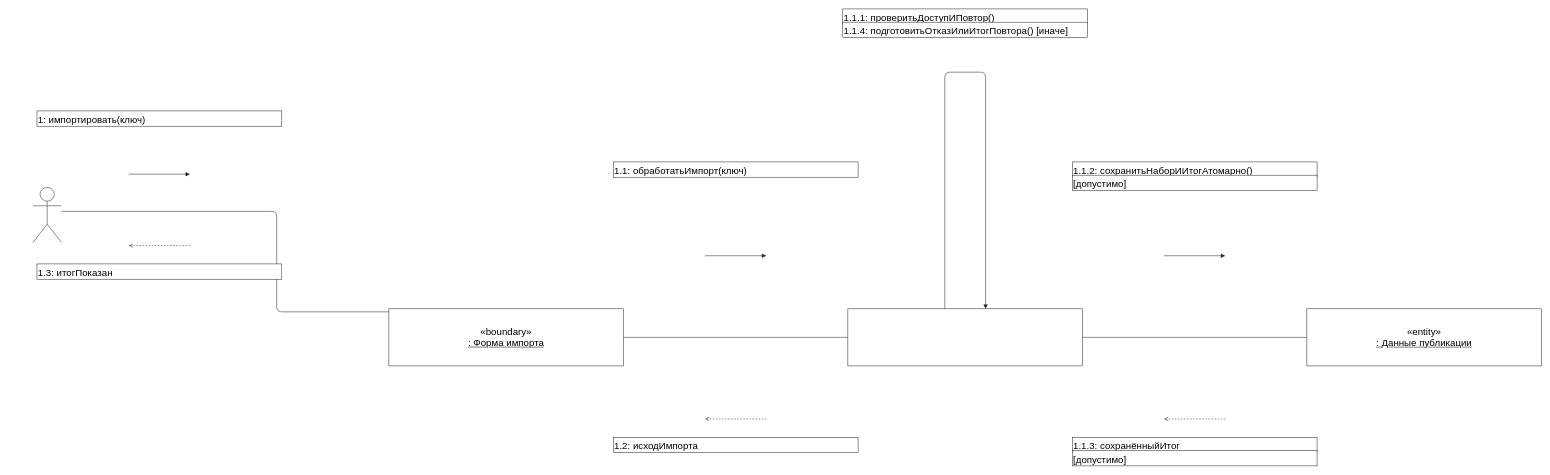
The diagram is 1550 pixels wide and 475 high, and some of its shapes have lost their labels. The shapes that lost their labels are listed below. From the top down, each one's centre as x and y in pixels, then its label:
At [46,215]: ": SMM-менеджер".
At [964,337]: "«control» : Управление импортом".
